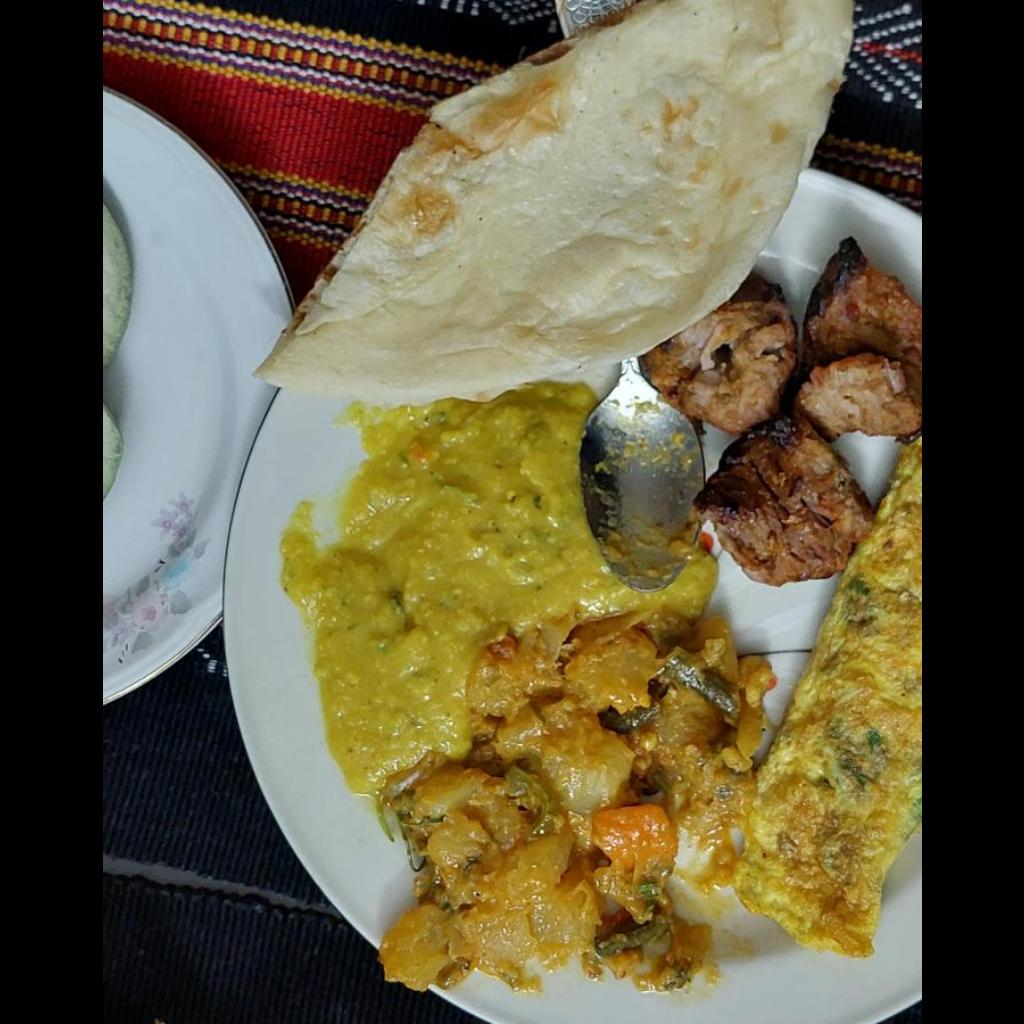cucumber: (102, 204, 130, 368), (102, 406, 122, 498)
daal: (283, 390, 651, 775)
egg-poached: (720, 457, 920, 959)
kabab: (652, 236, 920, 587)
ruti: (253, 1, 857, 393)
vegetable: (374, 616, 765, 996)
